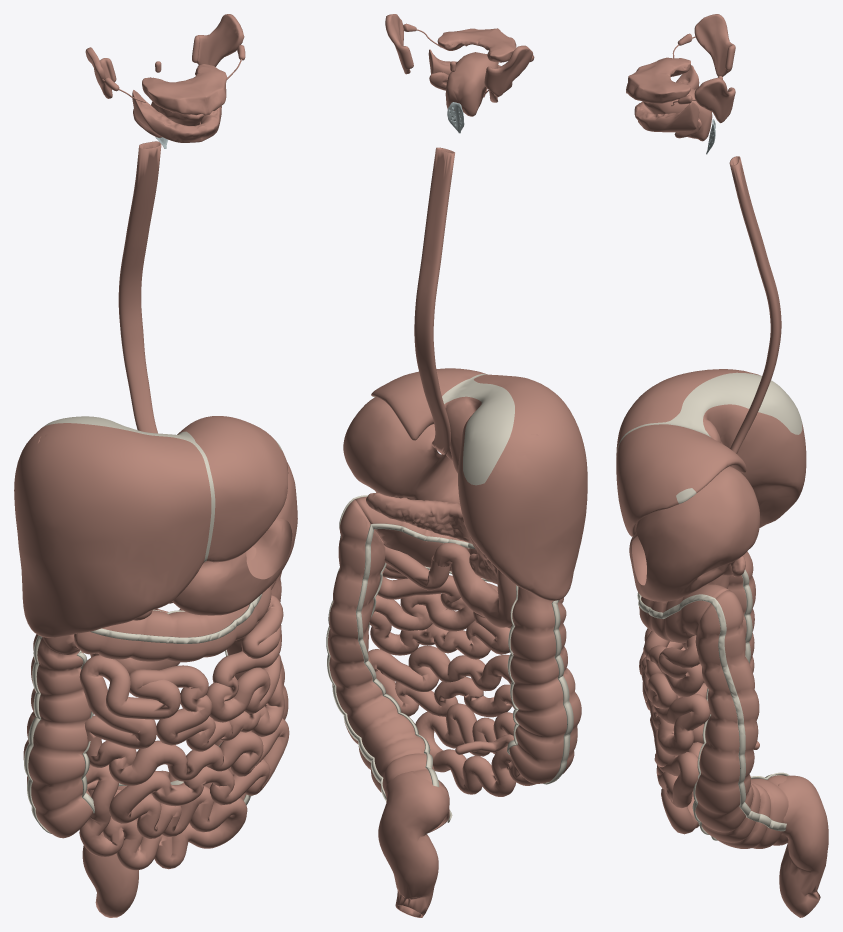
File: digestive.glb
3 renders of one model, left to right at view 1: azimuth 30°, elevation 25°; view 2: azimuth 150°, elevation 25°; view 3: azimuth 270°, elevation 25°, orthographic. The views are drawn at different scales.
Parts seen in each view (by area): view 1: za-f4ed8b7ee1271f34, za-9f75de04677fd3d5, za-d8a2603f0e6f08f1, za-98b69a9c644f4c9f, za-fc01578188b5b6ca, za-035c20b45f92da30, za-905101329365f7dd, za-18c54b5e42d72466, za-2bfac2f29a89e4d7, za-c8569a4be8296d88, za-5edf4038bc9422c2, za-fa061b55fa71f38c (+1 smaller); view 2: za-f4ed8b7ee1271f34, za-9f75de04677fd3d5, za-5edf4038bc9422c2, za-d8a2603f0e6f08f1, za-035c20b45f92da30, za-18c54b5e42d72466, za-98b69a9c644f4c9f, za-73e0f83df8e16452, za-73e0cefc541f1b82, za-894ea783b08bb69a, za-2bfac2f29a89e4d7, za-fc01578188b5b6ca (+5 smaller); view 3: za-f4ed8b7ee1271f34, za-5edf4038bc9422c2, za-035c20b45f92da30, za-9f75de04677fd3d5, za-18c54b5e42d72466, za-905101329365f7dd, za-98b69a9c644f4c9f, za-2bfac2f29a89e4d7, za-fc01578188b5b6ca, za-fa061b55fa71f38c, za-c8569a4be8296d88, za-d8a2603f0e6f08f1 (+2 smaller).
Part boxes in pixels (box(x1,y1,x2,y2)): za-f4ed8b7ee1271f34: box(14, 416, 288, 637); za-9f75de04677fd3d5: box(79, 595, 289, 870); za-d8a2603f0e6f08f1: box(23, 634, 92, 838); za-98b69a9c644f4c9f: box(118, 141, 161, 433); za-fc01578188b5b6ca: box(74, 546, 276, 662); za-035c20b45f92da30: box(172, 462, 297, 615); za-905101329365f7dd: box(132, 64, 227, 142); za-18c54b5e42d72466: box(82, 790, 138, 917); za-2bfac2f29a89e4d7: box(24, 593, 262, 833); za-c8569a4be8296d88: box(192, 14, 244, 66); za-5edf4038bc9422c2: box(117, 572, 288, 820); za-fa061b55fa71f38c: box(85, 47, 116, 98); za-f4ed8b7ee1271f34: box(371, 368, 587, 600); za-9f75de04677fd3d5: box(368, 545, 535, 796); za-5edf4038bc9422c2: box(328, 499, 449, 832); za-d8a2603f0e6f08f1: box(509, 586, 581, 783); za-035c20b45f92da30: box(343, 397, 460, 504); za-18c54b5e42d72466: box(378, 771, 449, 917); za-98b69a9c644f4c9f: box(414, 147, 454, 454); za-73e0f83df8e16452: box(366, 493, 497, 583); za-73e0cefc541f1b82: box(433, 542, 518, 627); za-894ea783b08bb69a: box(356, 523, 519, 787); za-2bfac2f29a89e4d7: box(326, 495, 573, 801); za-fc01578188b5b6ca: box(355, 496, 483, 578); za-f4ed8b7ee1271f34: box(616, 369, 806, 536); za-5edf4038bc9422c2: box(695, 590, 788, 848); za-035c20b45f92da30: box(629, 466, 759, 601); za-9f75de04677fd3d5: box(639, 628, 710, 834); za-18c54b5e42d72466: box(778, 775, 828, 917); za-905101329365f7dd: box(626, 57, 699, 132); za-98b69a9c644f4c9f: box(729, 156, 781, 453); za-2bfac2f29a89e4d7: box(637, 592, 786, 831); za-fc01578188b5b6ca: box(639, 584, 728, 643); za-fa061b55fa71f38c: box(694, 14, 735, 76); za-c8569a4be8296d88: box(694, 78, 735, 123); za-d8a2603f0e6f08f1: box(703, 551, 755, 723).
Bounding box in the file's own units: 0.2292 × 0.7728 × 0.1712.
